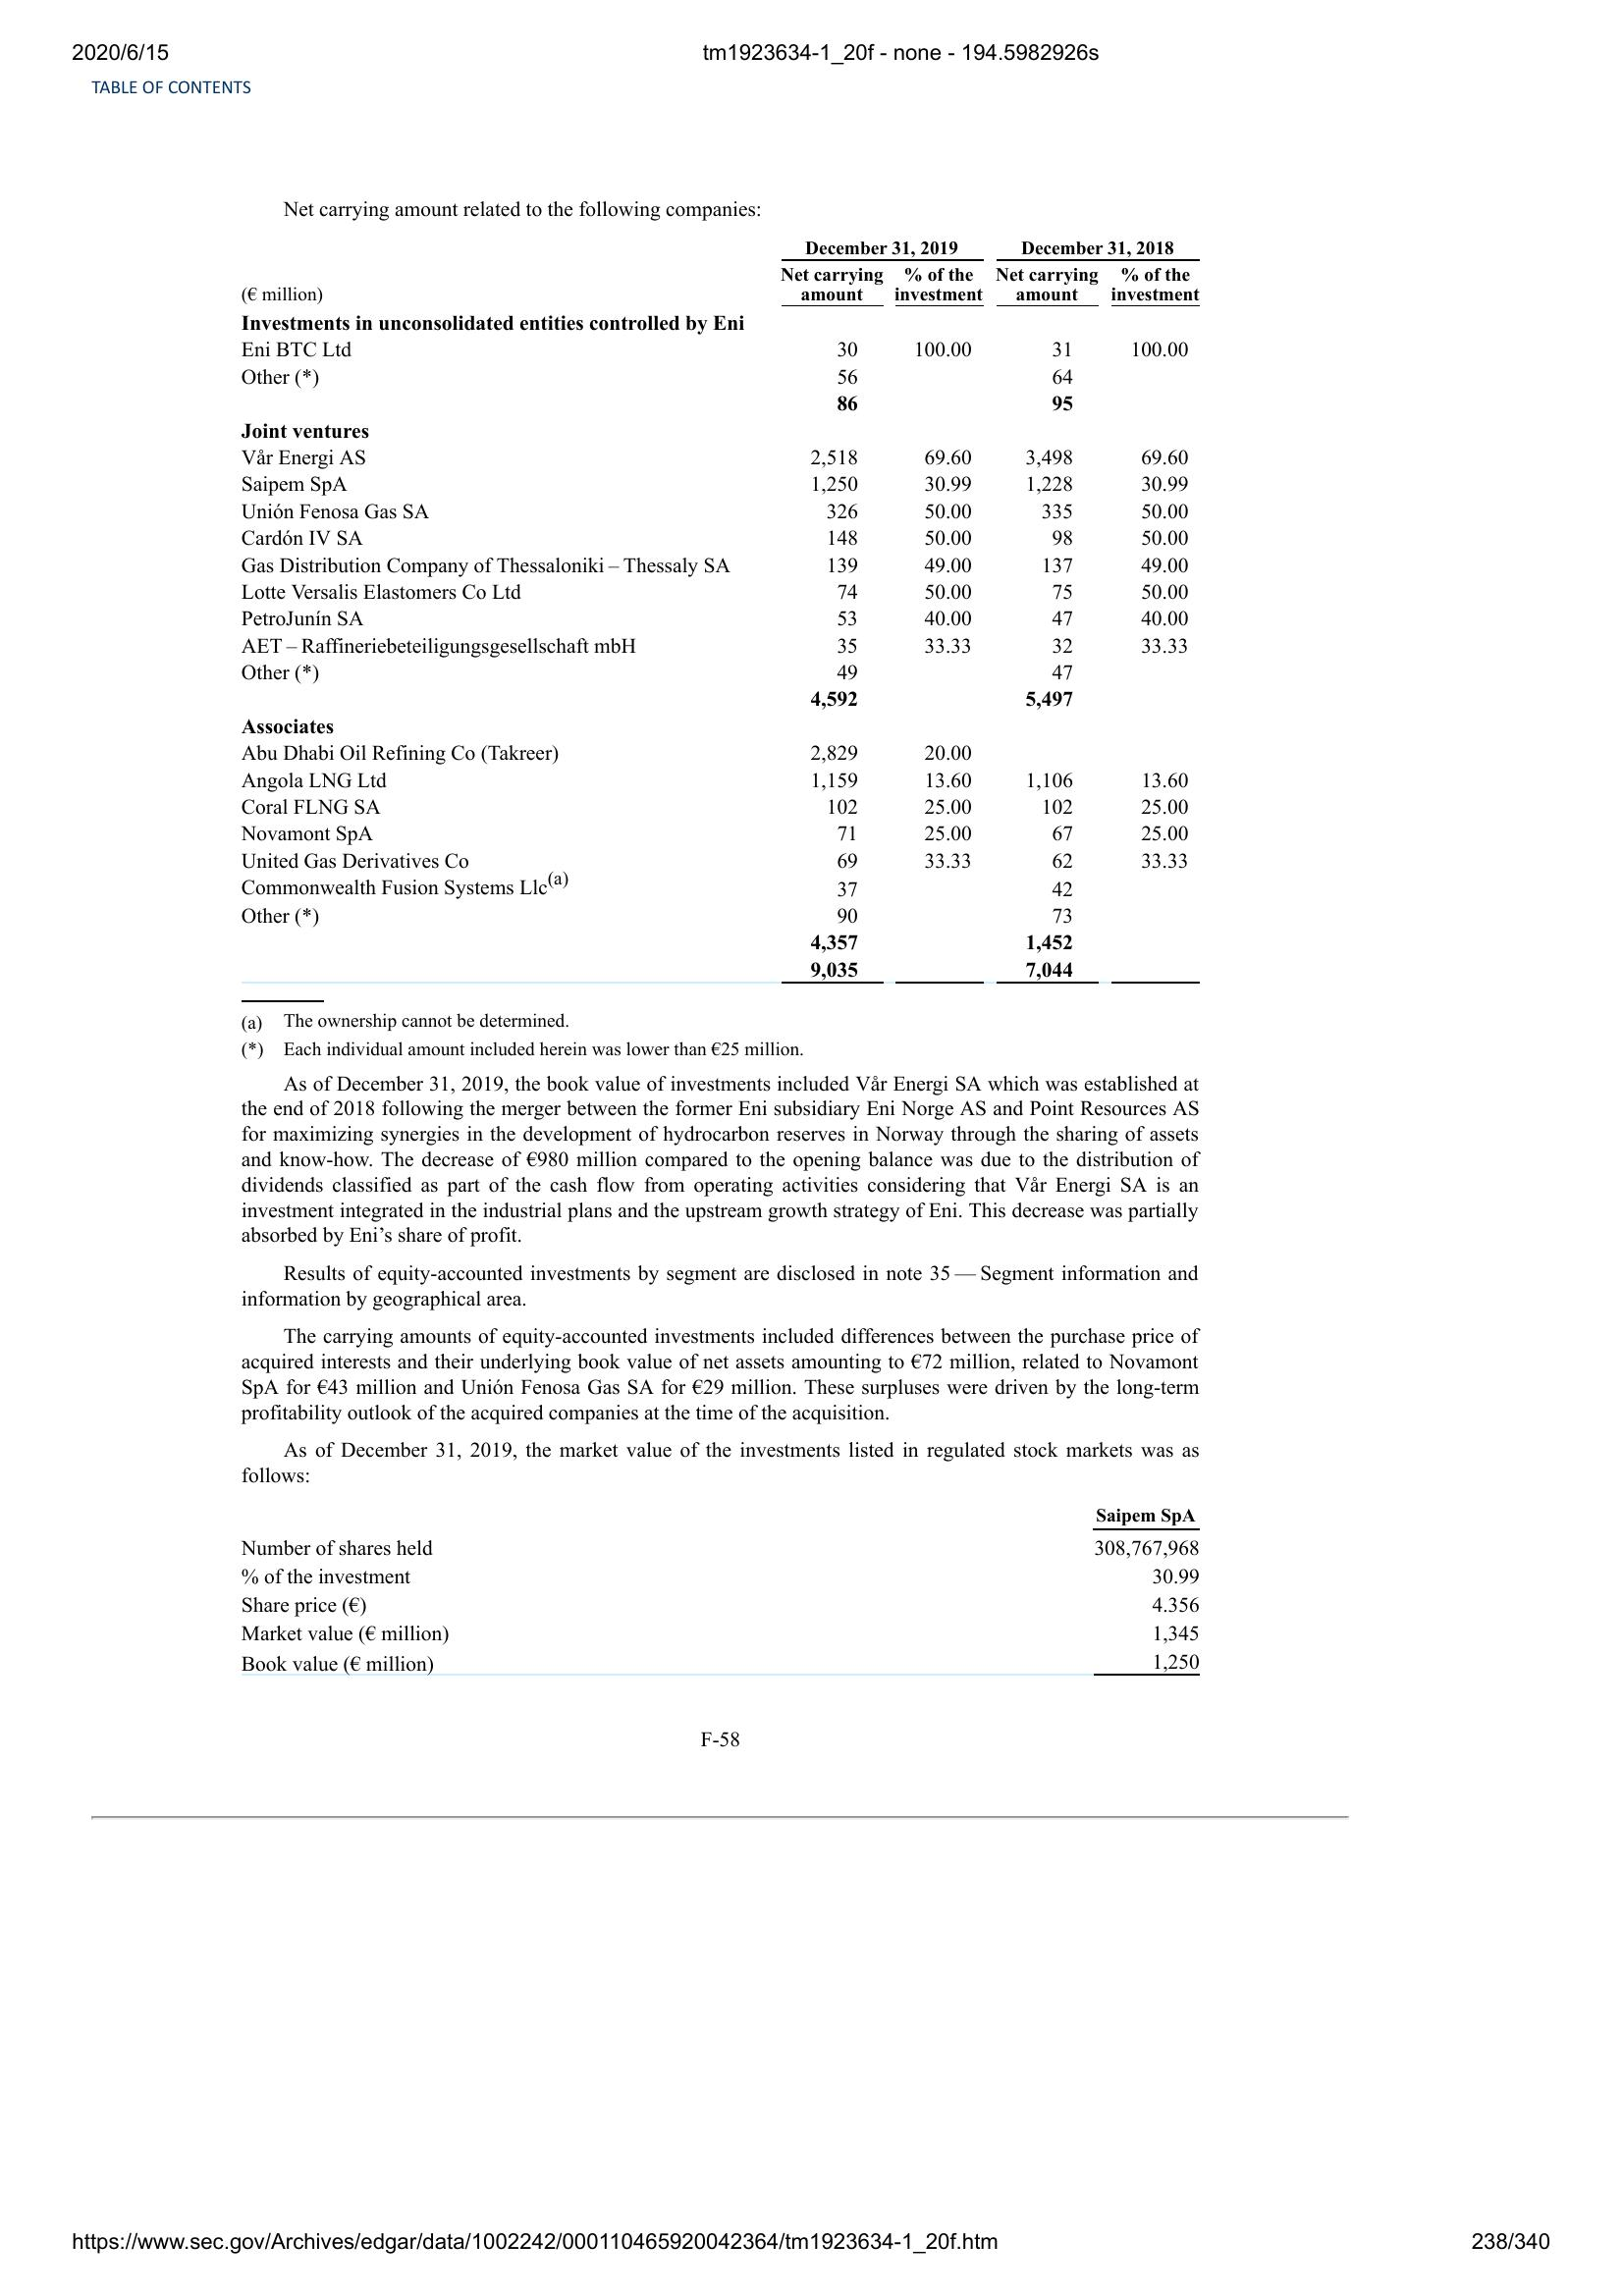table: (235, 233, 1203, 992), (232, 1501, 1208, 1682)
